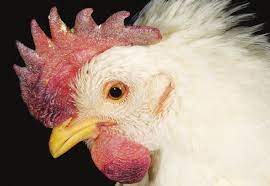avian Influenza: (12, 5, 265, 184)
